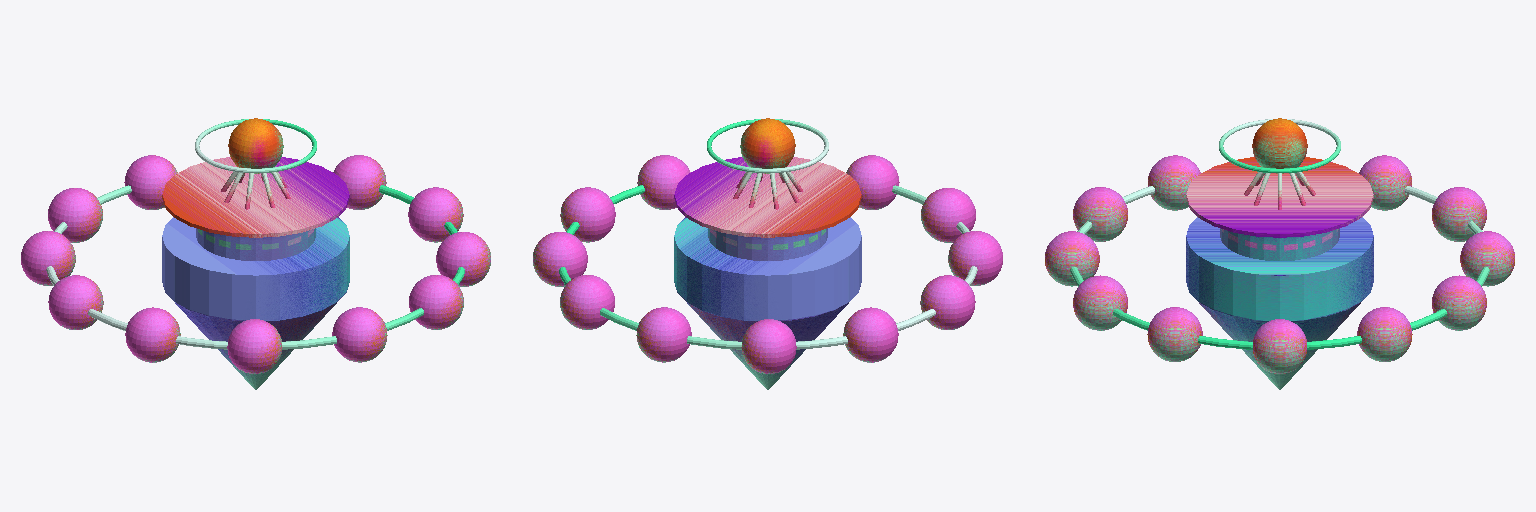
3 renders of one model, left to right at view 1: azimuth 30°, elevation 25°; view 2: azimuth 150°, elevation 25°; view 3: azimuth 270°, elevation 25°, orthographic.
Parts seen in each view (by area): view 1: Cylinder001, Circle002, Sphere010, Sphere009, Sphere011, Sphere012, Sphere008, Sphere001, Sphere002, Sphere006, Sphere007, Sphere013 (+4 smaller); view 2: Cylinder001, Circle002, Sphere006, Sphere007, Sphere005, Sphere004, Sphere008, Sphere001, Sphere002, Sphere010, Sphere009, Sphere003 (+4 smaller); view 3: Cylinder001, Circle002, Sphere002, Sphere003, Sphere013, Sphere004, Sphere012, Sphere001, Sphere006, Sphere010, Sphere005, Sphere011 (+4 smaller).
Boxes of the visible parts, x1,y1,x2,y2 form: Cylinder001: [162, 157, 349, 389]; Circle002: [46, 185, 464, 349]; Sphere010: [227, 319, 282, 373]; Sphere009: [125, 307, 180, 362]; Sphere011: [332, 307, 387, 362]; Sphere012: [409, 275, 463, 329]; Sphere008: [48, 275, 103, 329]; Sphere001: [228, 118, 283, 173]; Sphere002: [408, 187, 463, 242]; Sphere006: [48, 188, 102, 242]; Sphere007: [21, 231, 75, 285]; Sphere013: [436, 232, 490, 286]; Cylinder001: [674, 157, 861, 389]; Circle002: [559, 185, 977, 349]; Sphere006: [741, 319, 796, 373]; Sphere007: [843, 307, 898, 362]; Sphere005: [636, 307, 691, 362]; Sphere004: [560, 275, 614, 329]; Sphere008: [920, 275, 975, 329]; Sphere001: [740, 118, 795, 173]; Sphere002: [560, 187, 615, 242]; Sphere010: [921, 188, 975, 242]; Sphere009: [948, 231, 1002, 285]; Sphere003: [533, 232, 587, 286]; Cylinder001: [1186, 157, 1373, 389]; Circle002: [1070, 186, 1489, 349]; Sphere002: [1253, 319, 1306, 373]; Sphere003: [1357, 307, 1412, 361]; Sphere013: [1147, 307, 1202, 361]; Sphere004: [1432, 275, 1486, 330]; Sphere012: [1073, 275, 1127, 330]; Sphere001: [1252, 118, 1307, 173]; Sphere006: [1432, 187, 1486, 241]; Sphere010: [1073, 187, 1127, 241]; Sphere005: [1460, 231, 1514, 286]; Sphere011: [1045, 231, 1099, 286].
Bounding box in the file's own units: 173 × 110 × 173.
4 materials, 4 textured.